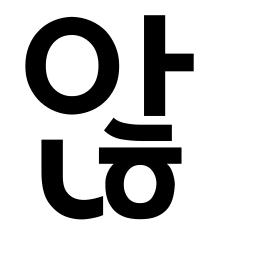Gaji: (133, 41, 182, 90)
